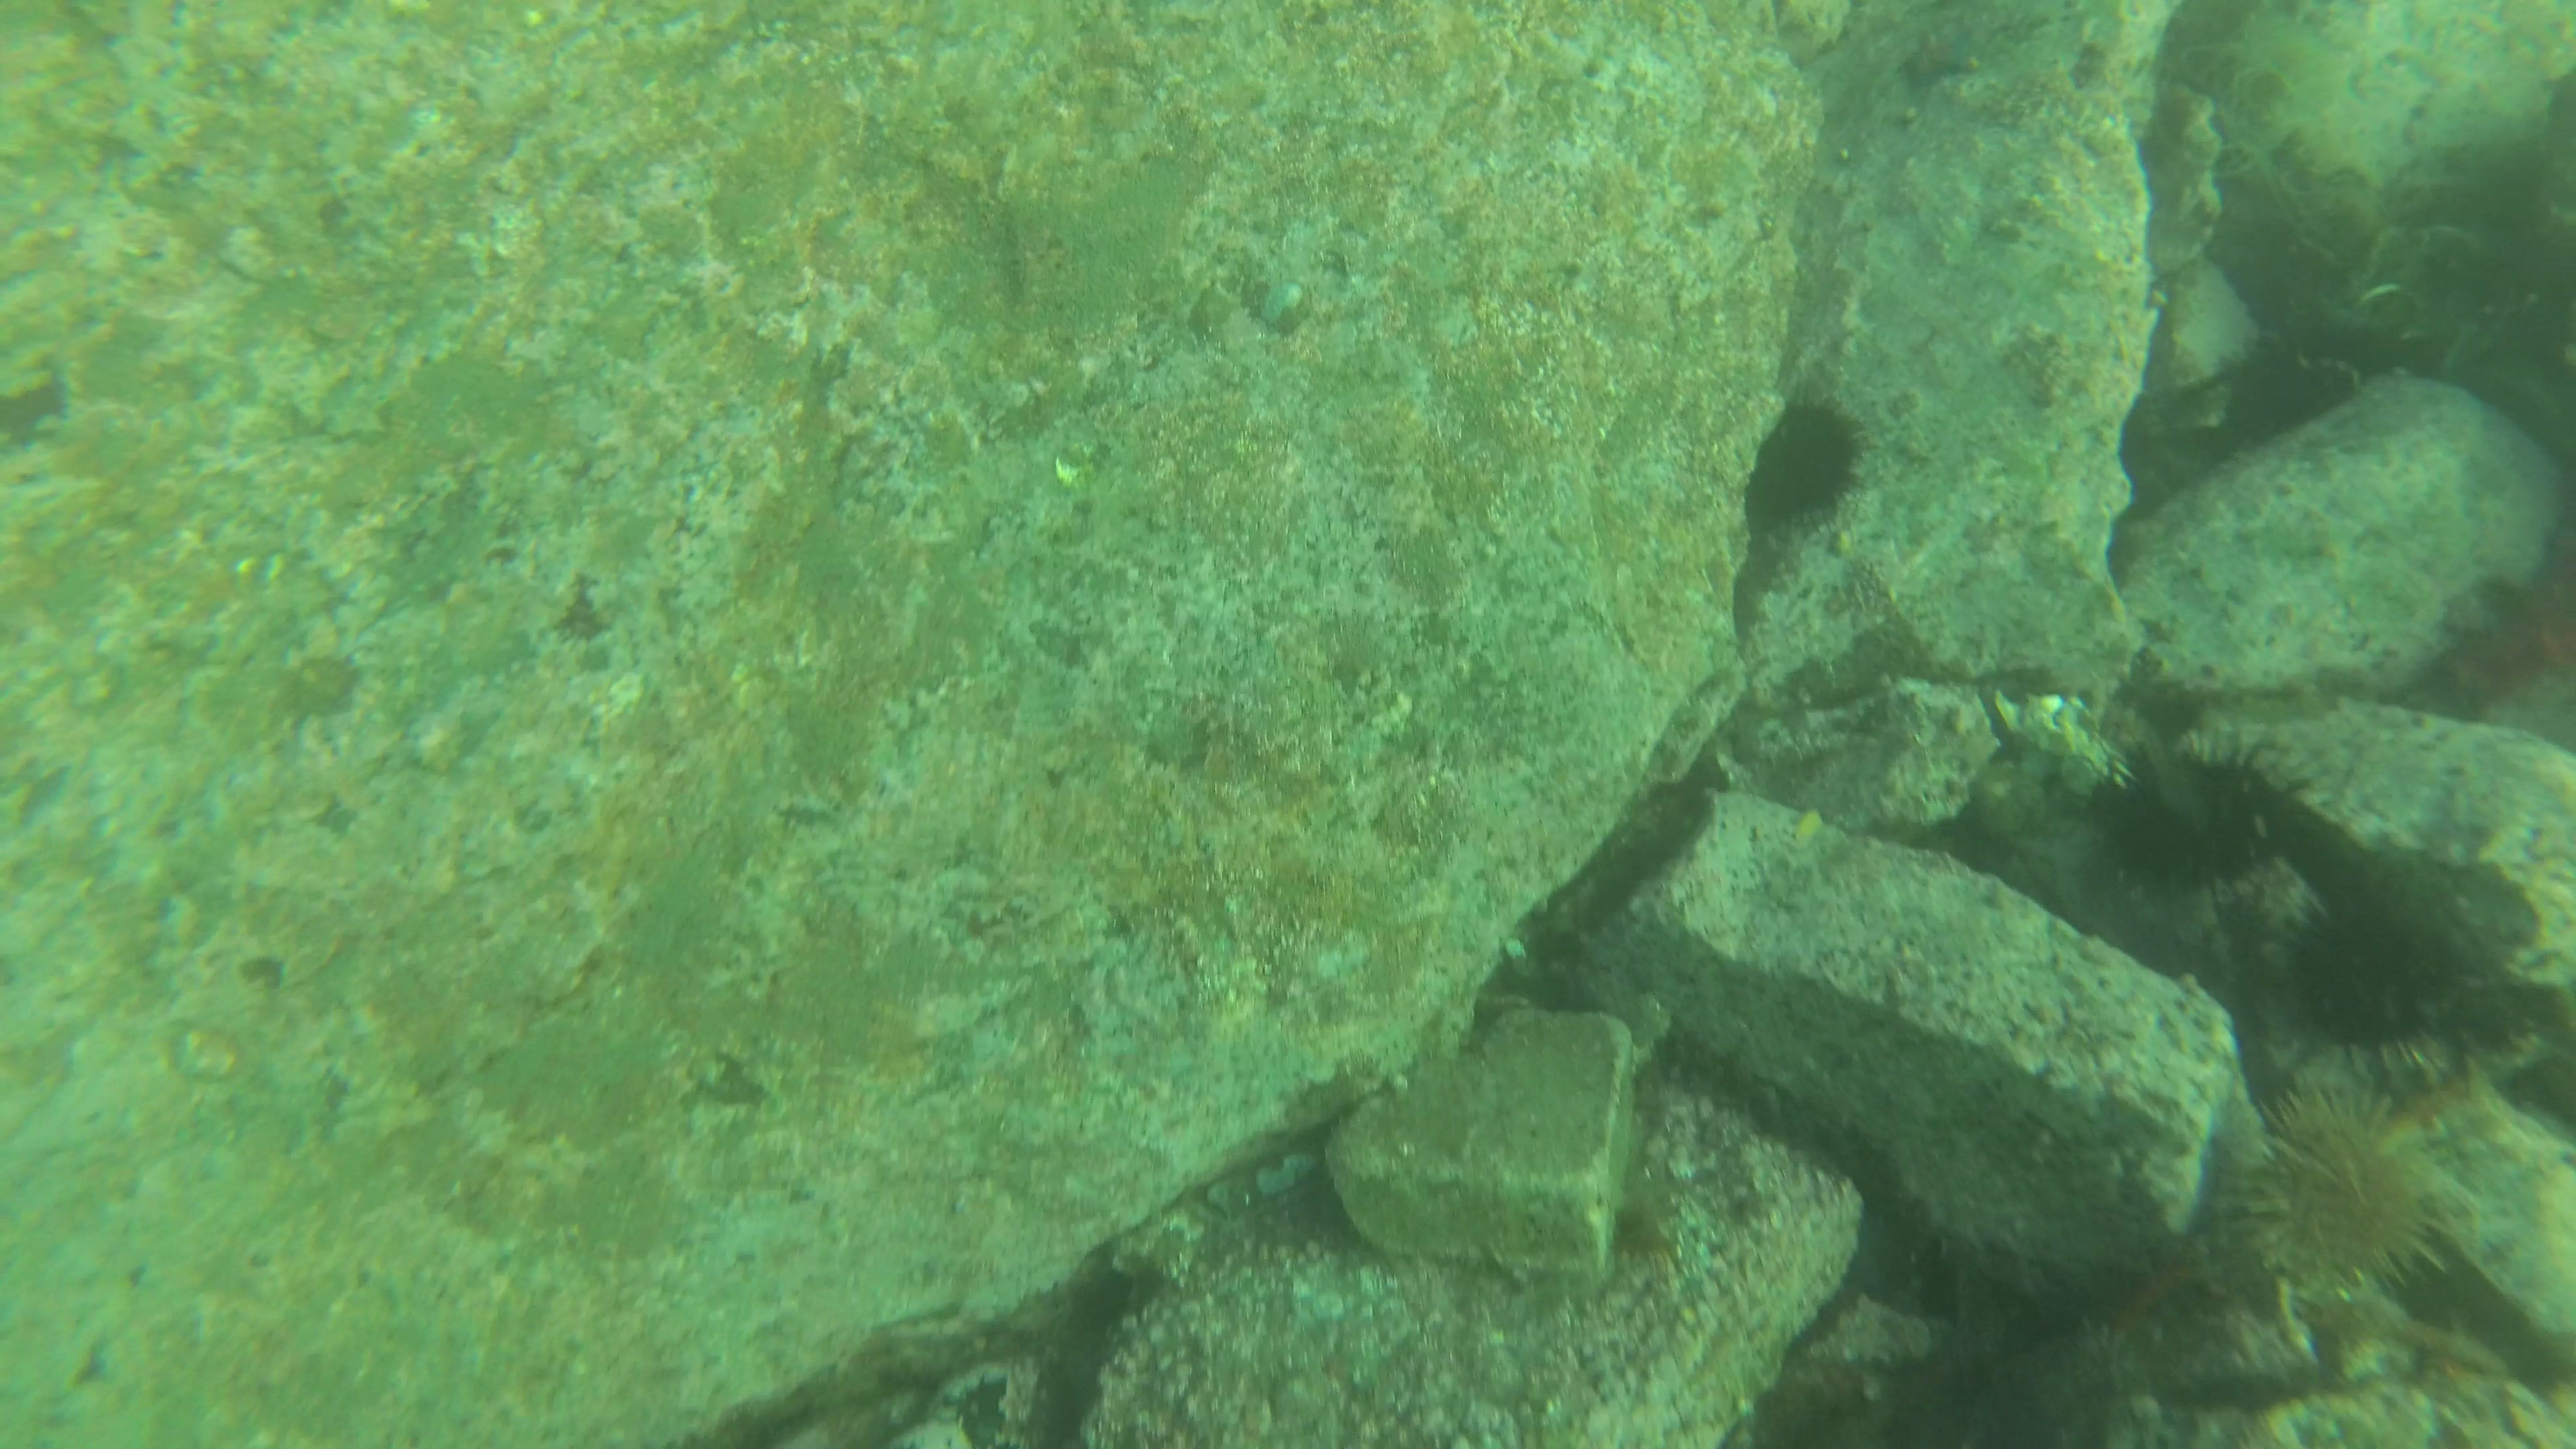echinus: (2196, 1083, 2459, 1327), (2275, 885, 2473, 1085), (2082, 736, 2302, 892), (1739, 391, 1858, 557)
